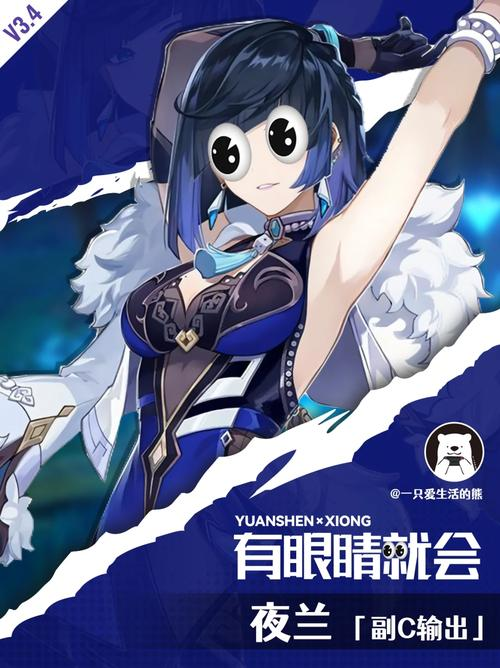夜兰: (105, 2, 499, 547)
